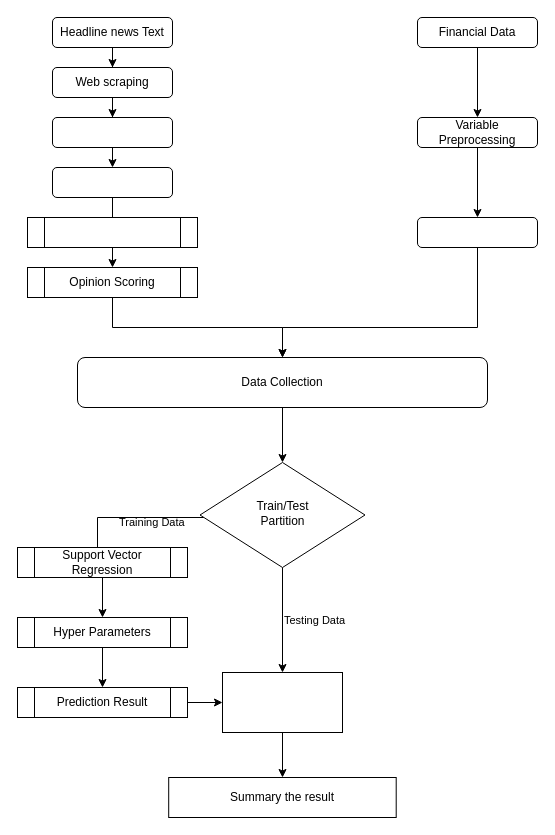
Image size: 555x835. Some labels were removed from this diagram. Here are the shapes that lost their labels. From the top down, the box of each, then its label:
(52, 116, 172, 148): Word Cleaning and Filtering
(52, 166, 172, 198): Selection important words or phases
(26, 216, 198, 248): TF-IDF Calculation
(416, 216, 538, 248): Correlation Analysis
(222, 672, 342, 732): Validation
